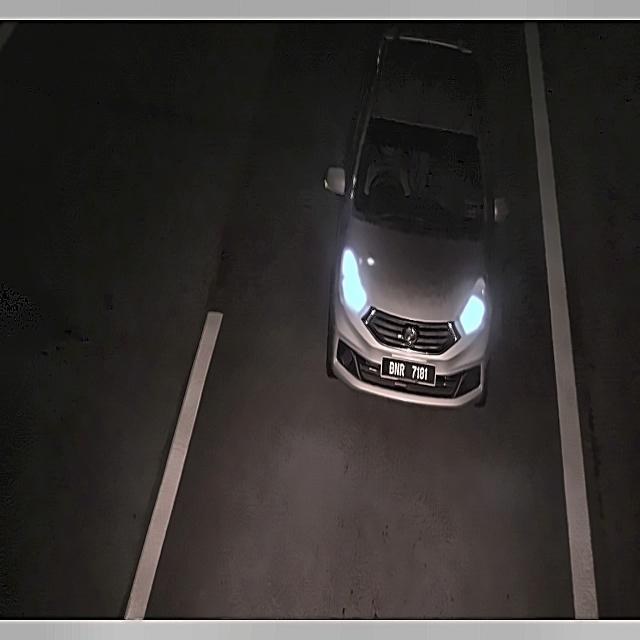car: (378, 351, 440, 392)
